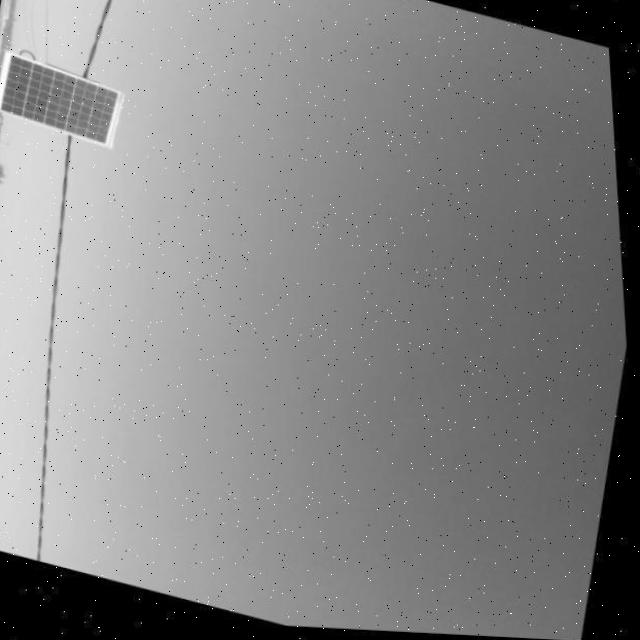Normal Solar Panel: (0, 56, 136, 156)
